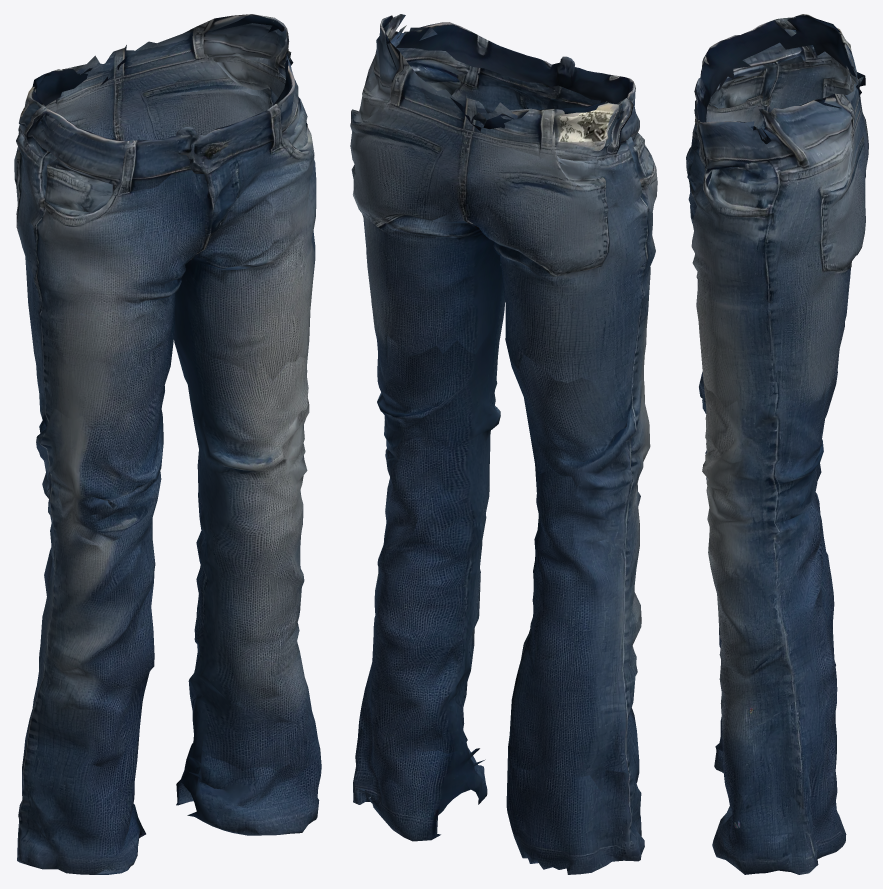
The picture shows the model from 3 angles, left to right: view 1: azimuth 30°, elevation 25°; view 2: azimuth 150°, elevation 25°; view 3: azimuth 270°, elevation 25°; orthographic projection. The views are drawn at different scales.
Visible parts, largest first — view 1: Roupa_004; view 2: Roupa_004; view 3: Roupa_004.
Boxes of the visible parts, <box> form: Roupa_004: <box>14,14,321,874</box>; Roupa_004: <box>350,14,657,874</box>; Roupa_004: <box>686,14,868,874</box>.
Size of the model in its own units: 0.3567 by 0.9534 by 0.206.
Materials: 8 (8 with a texture image).
